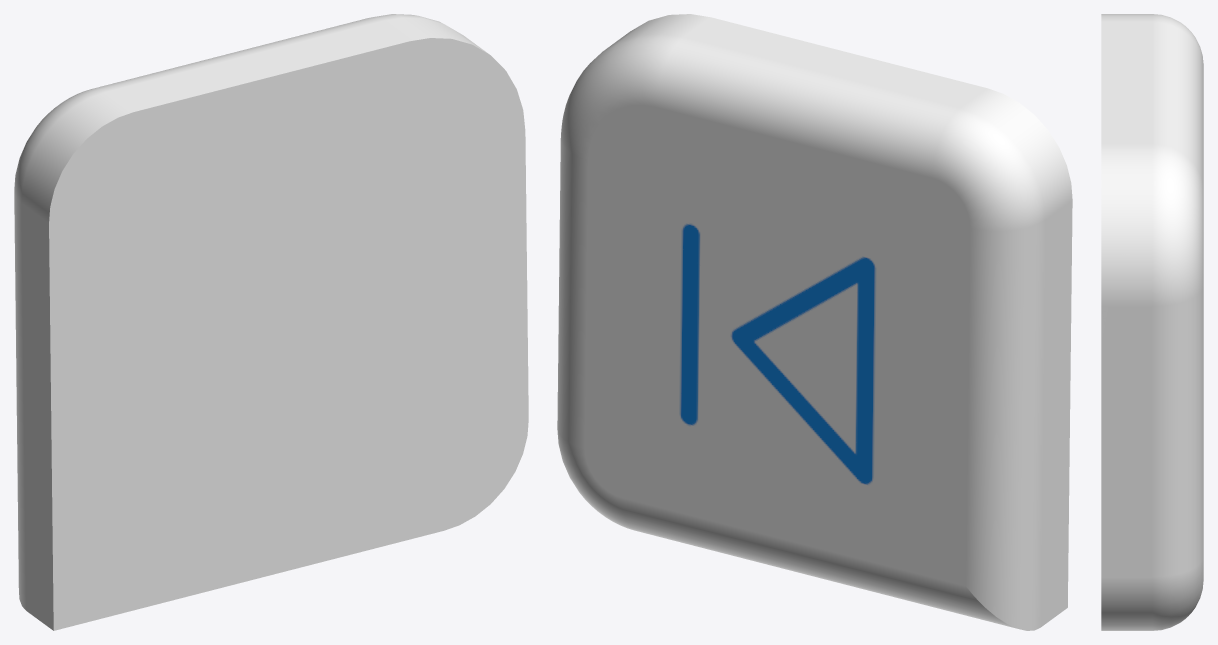
The model's file is left.fbx.
3 renders of one model, left to right at view 1: azimuth 30°, elevation 25°; view 2: azimuth 150°, elevation 25°; view 3: azimuth 270°, elevation 25°, orthographic. The views are drawn at different scales.
Visible parts, largest first — view 1: Left; view 2: Left; view 3: Left.
Part boxes in pixels (x1,y1,x2,y2): Left: [14, 14, 528, 630]; Left: [557, 14, 1072, 630]; Left: [1101, 14, 1203, 630].
Size of the model in its own units: 504 by 505 by 100.
